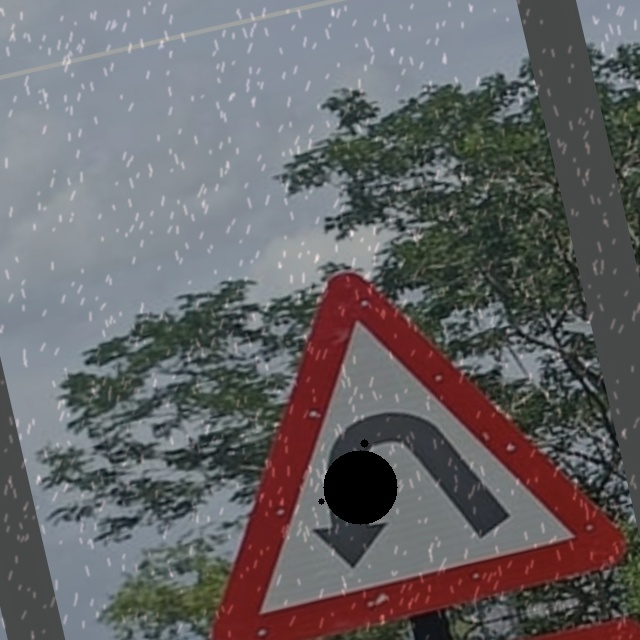Left_Hair_Pin_Bend: (137, 212, 636, 639)
